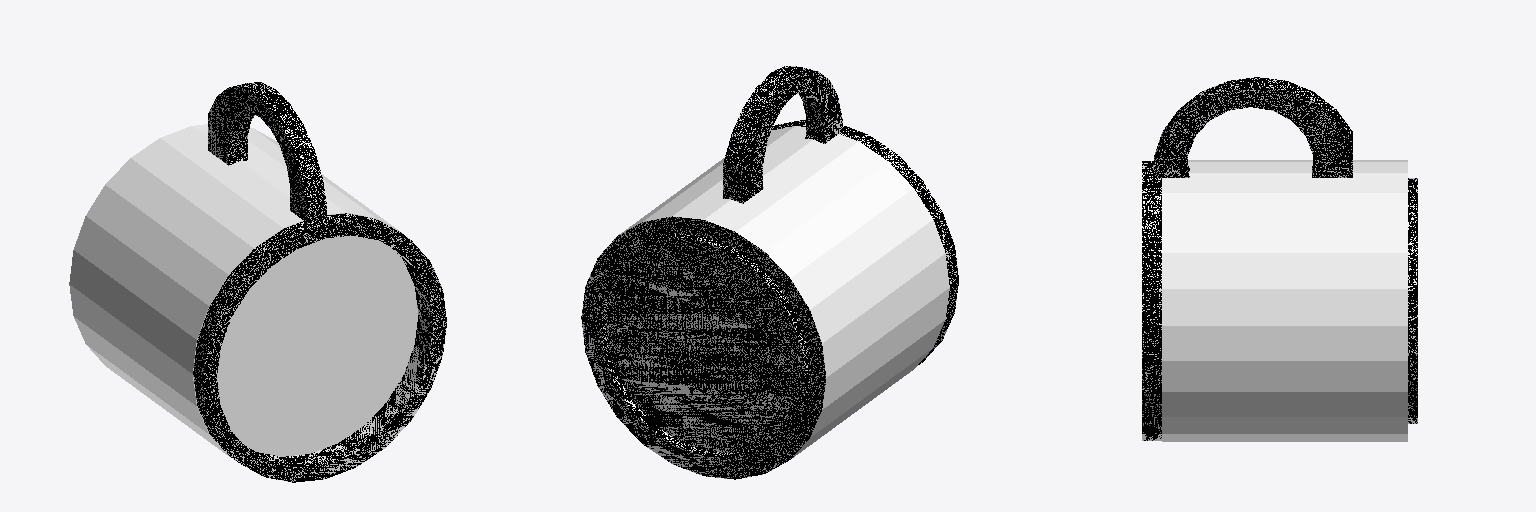
The model's file is model_align.obj.
3 renders of one model, left to right at view 1: azimuth 30°, elevation 25°; view 2: azimuth 150°, elevation 25°; view 3: azimuth 270°, elevation 25°, orthographic.
Bounding box in the file's own units: 0.086 × 0.1162 × 0.084.